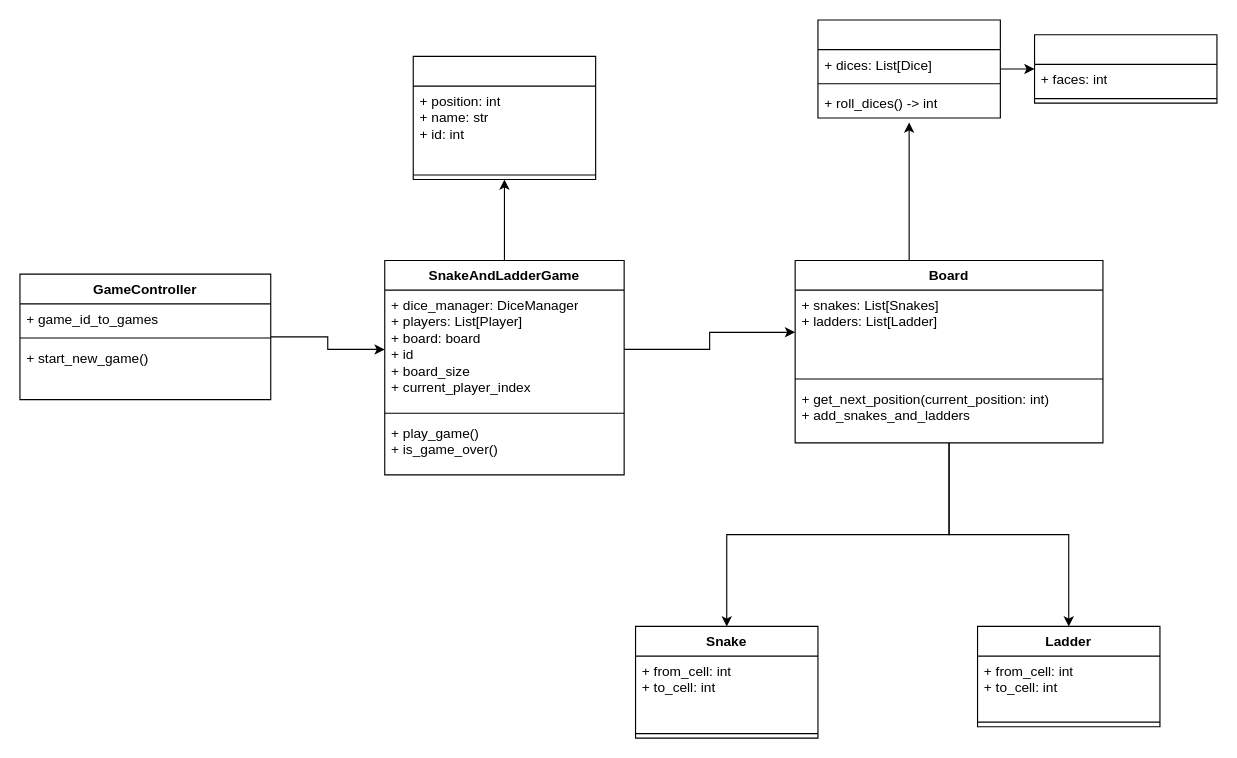
Some shapes in this 1237 by 758 pixel diagram are drawn without their labels. Here are the shapes that lost their labels. From the top down, the box of each, then its label:
(817, 19, 1000, 118): DiceManager
(1033, 34, 1217, 103): Dice
(412, 55, 596, 180): Player
